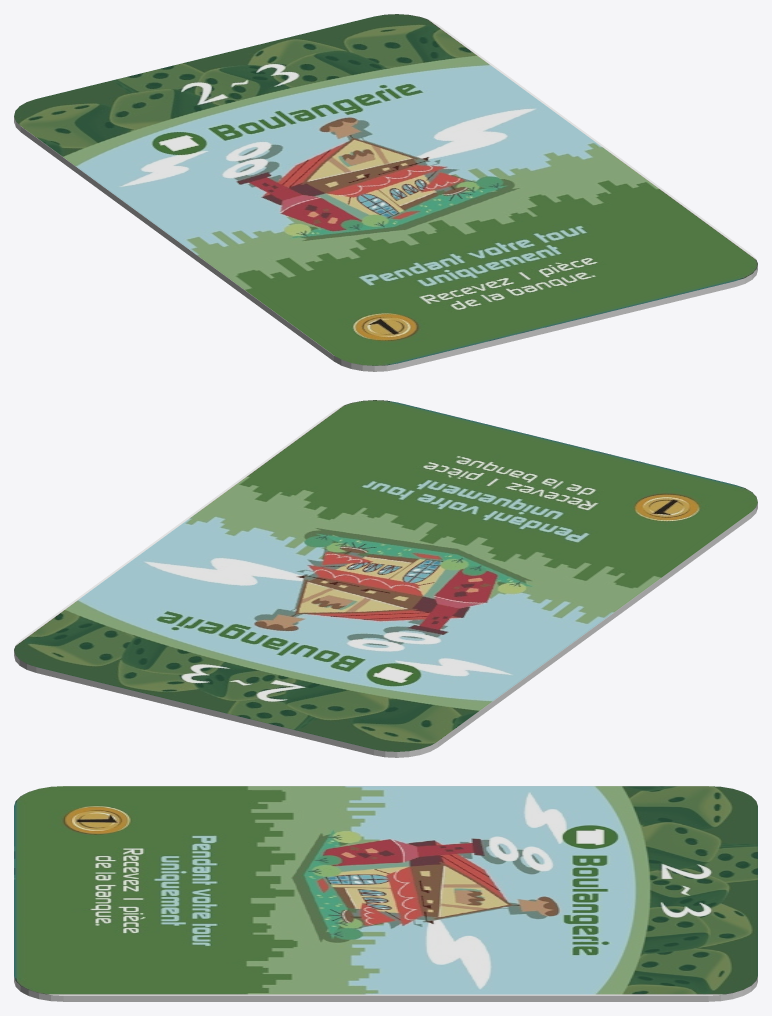
Rendered from Card.fbx.
3 views of the same model, one above another, from view 1: azimuth 30°, elevation 25°; view 2: azimuth 150°, elevation 25°; view 3: azimuth 270°, elevation 25° (orthographic). The views are drawn at different scales.
Visible parts, largest first — view 1: Plane; view 2: Plane; view 3: Plane.
Boxes of the visible parts, <box> form: Plane: <box>14,14,757,371</box>; Plane: <box>14,400,757,757</box>; Plane: <box>14,786,757,1001</box>.
Bounding box in the file's own units: 100 × 1.36 × 150.
